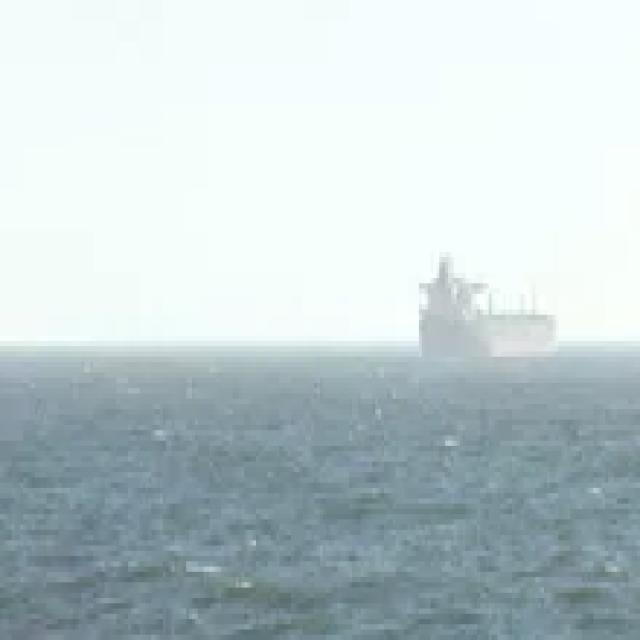cargoship: (405, 246, 559, 366)
